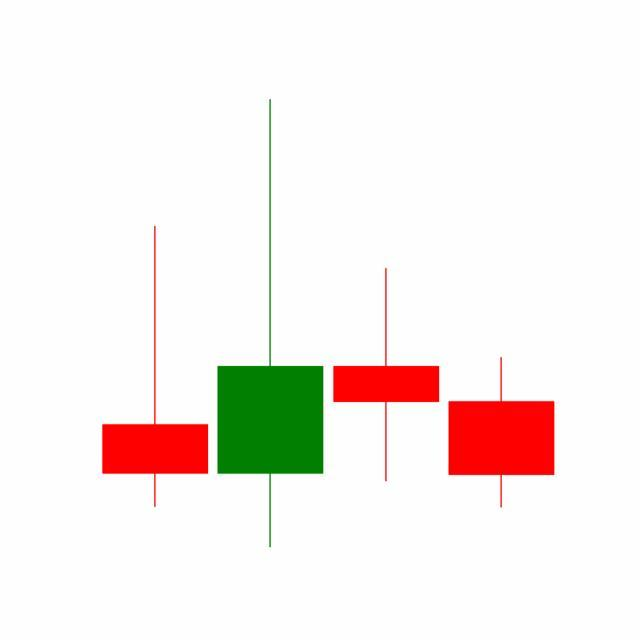Spinning Top: (329, 266, 445, 485)
